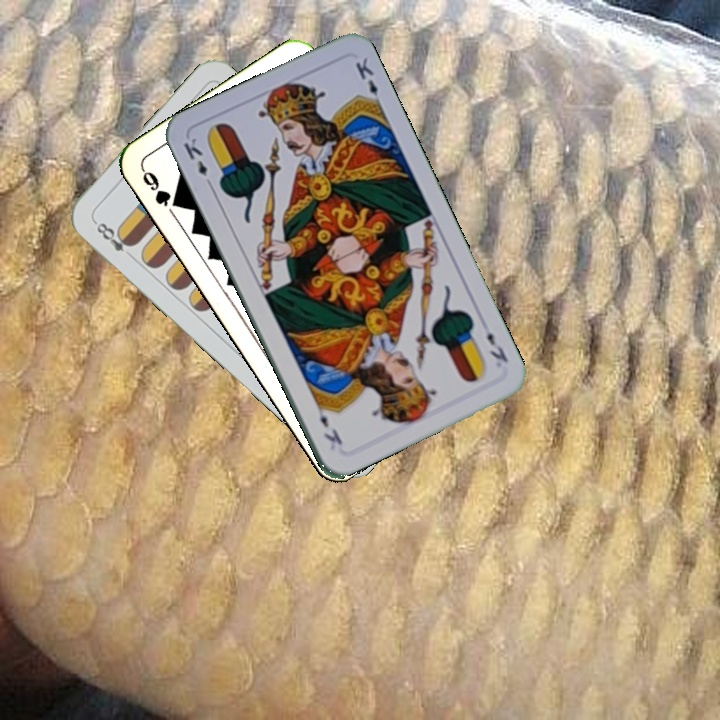E8: (90, 217, 138, 255)
EK: (179, 134, 216, 191), (482, 327, 511, 365)
G9: (137, 164, 184, 211)
